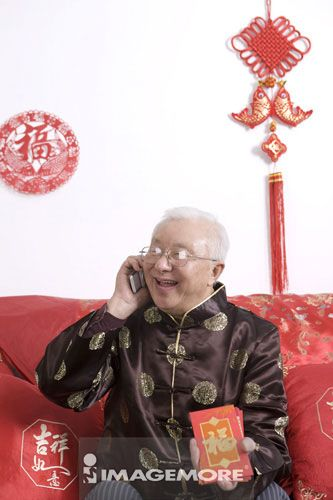talk: (112, 235, 204, 315)
